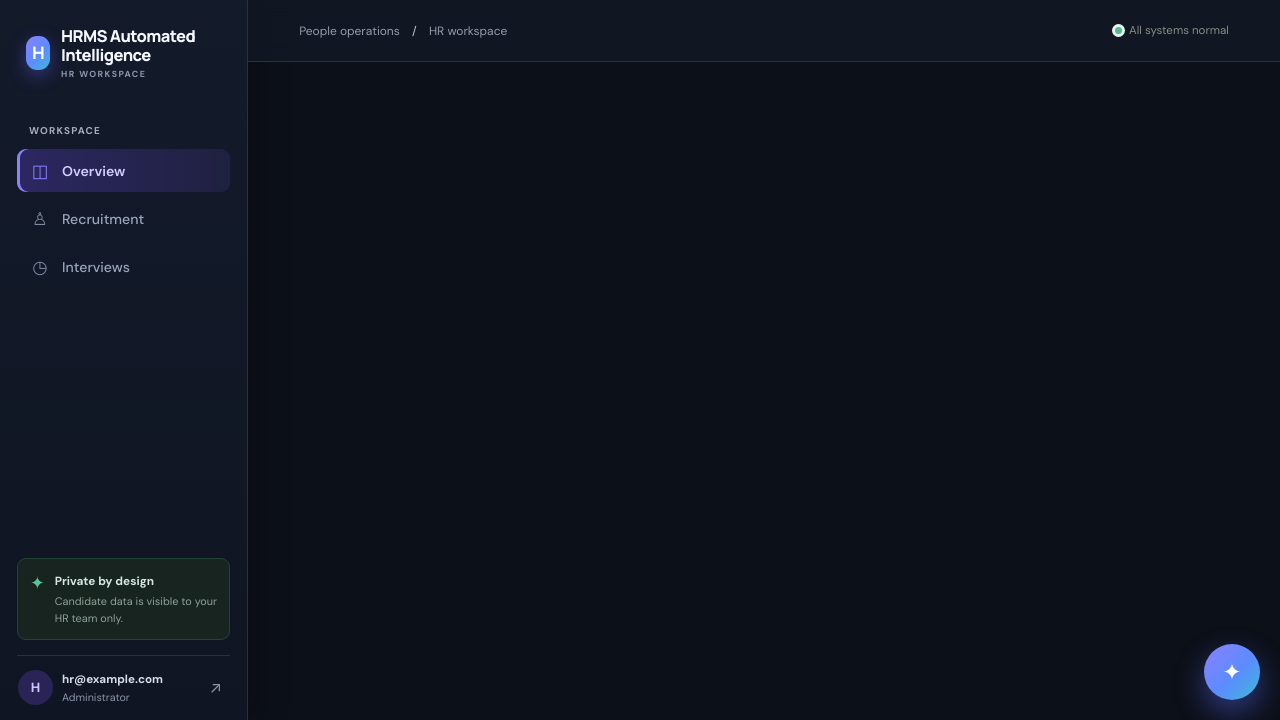
AppLayout recruitment assistant launcher › provides job context to the assistant and closes the chat
Click the button named "Open recruitment assistant": (1232, 672) [1204,644,1260,700]
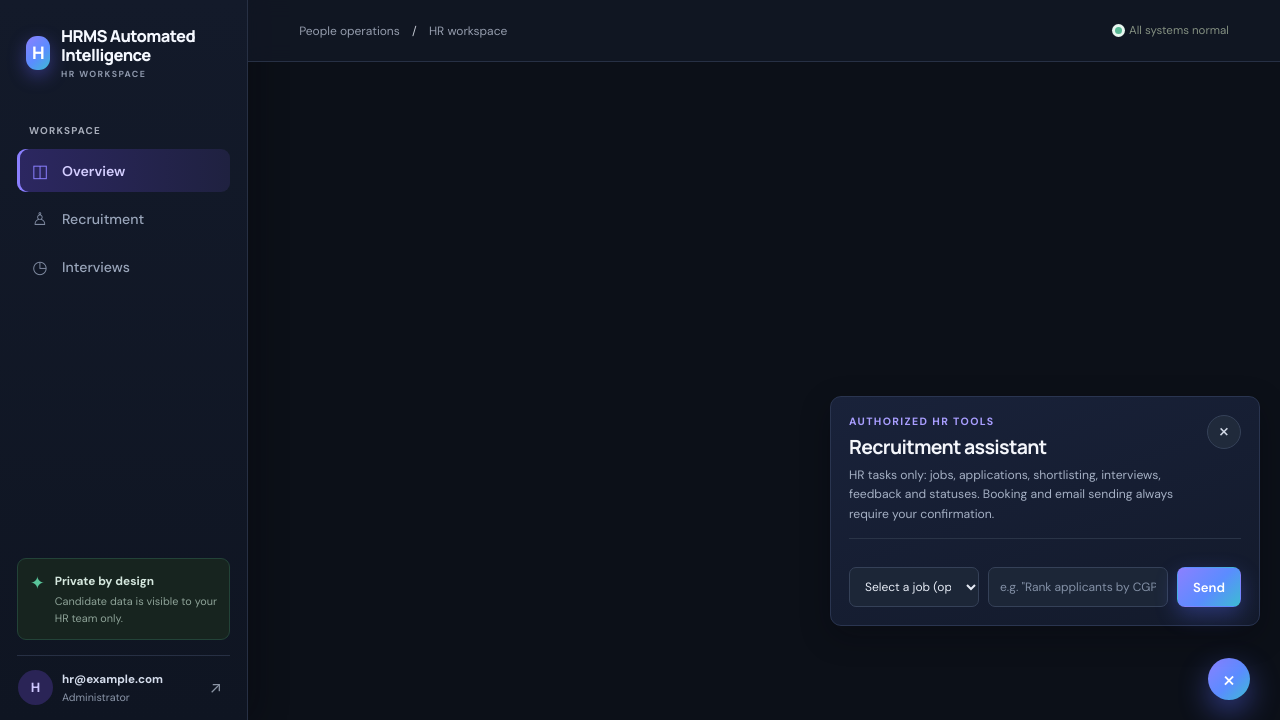
Now the element named "Recruitment assistant chat" is shown, box [830,396,1260,626]
Select "Frontend Developer · published" in the dropdown named "Assistant job filter": (914, 587) [849,567,979,607]
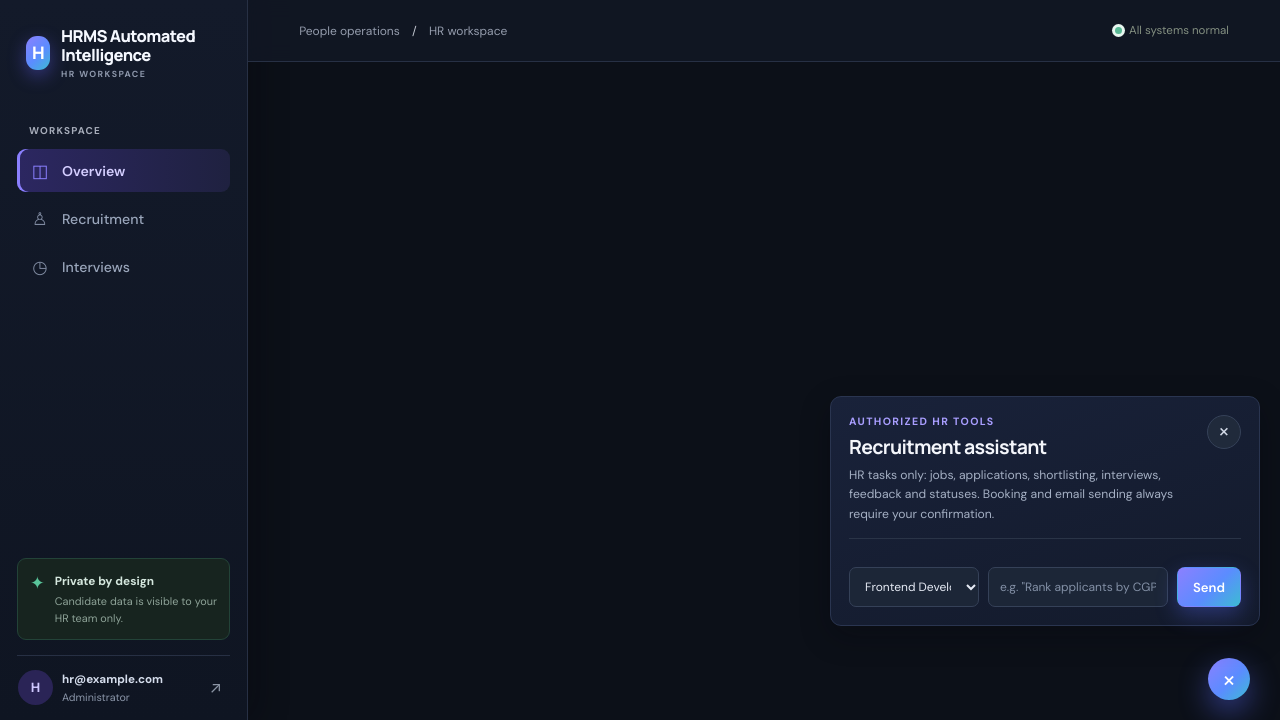
Replace the text in the field named "Ask recruitment assistant" with "Rank applications by CGPA": (1078, 587) [988,567,1168,607]
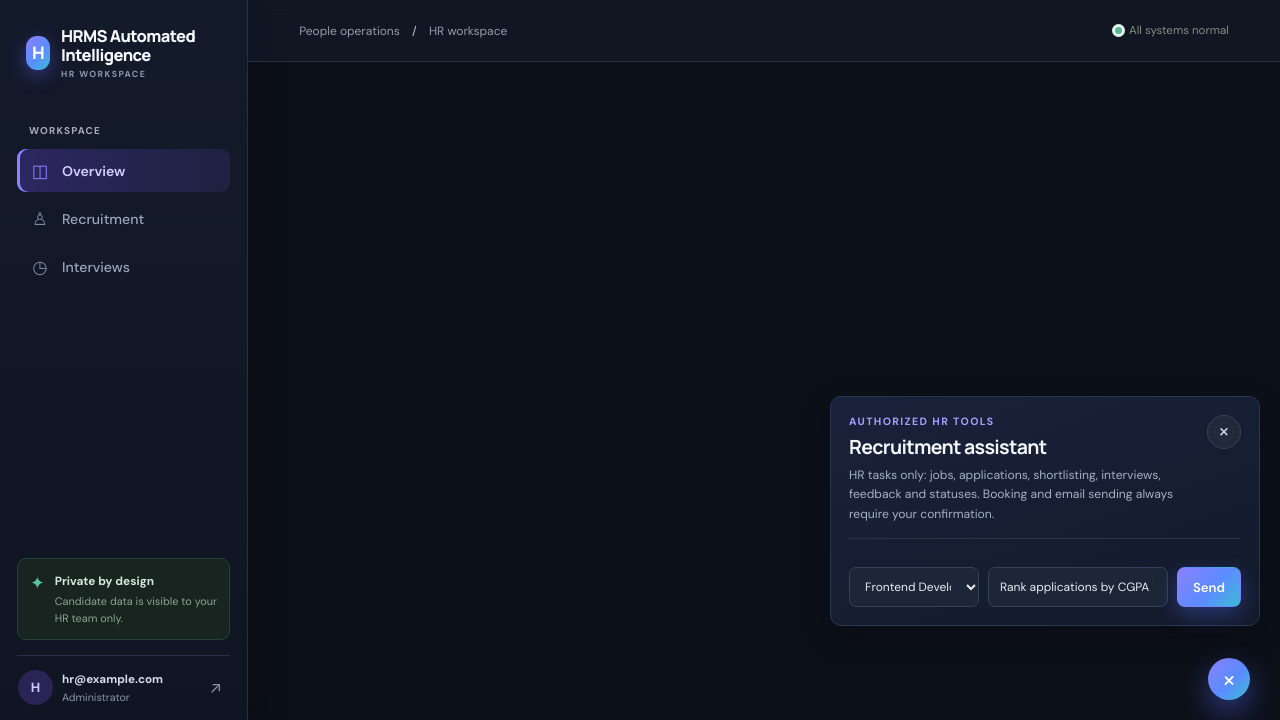
Click the button "Send": (1209, 587) [1177,567,1241,607]
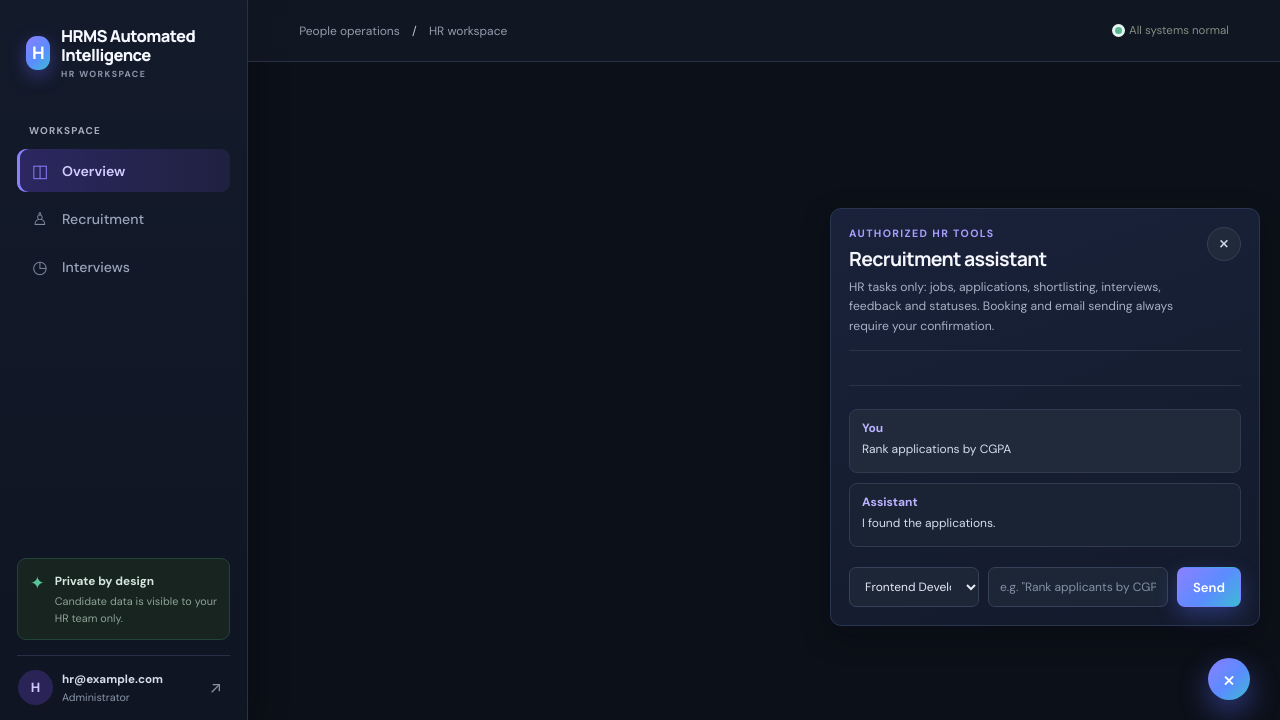
Click the button named "Close chat": (1224, 244) [1207,227,1241,261]
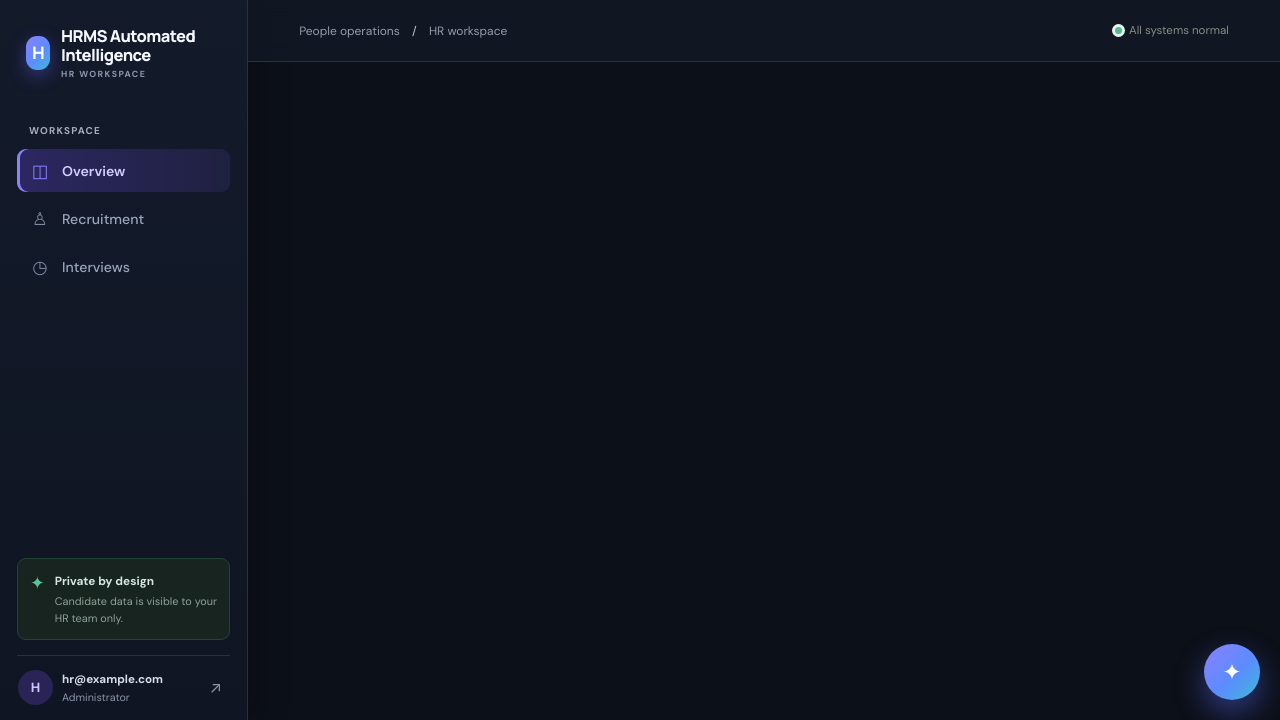
Now the button named "Open recruitment assistant" is collapsed, box [1204,644,1260,700]
